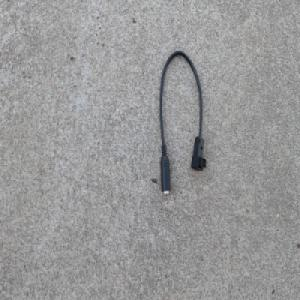Wire: (157, 48, 207, 197)
